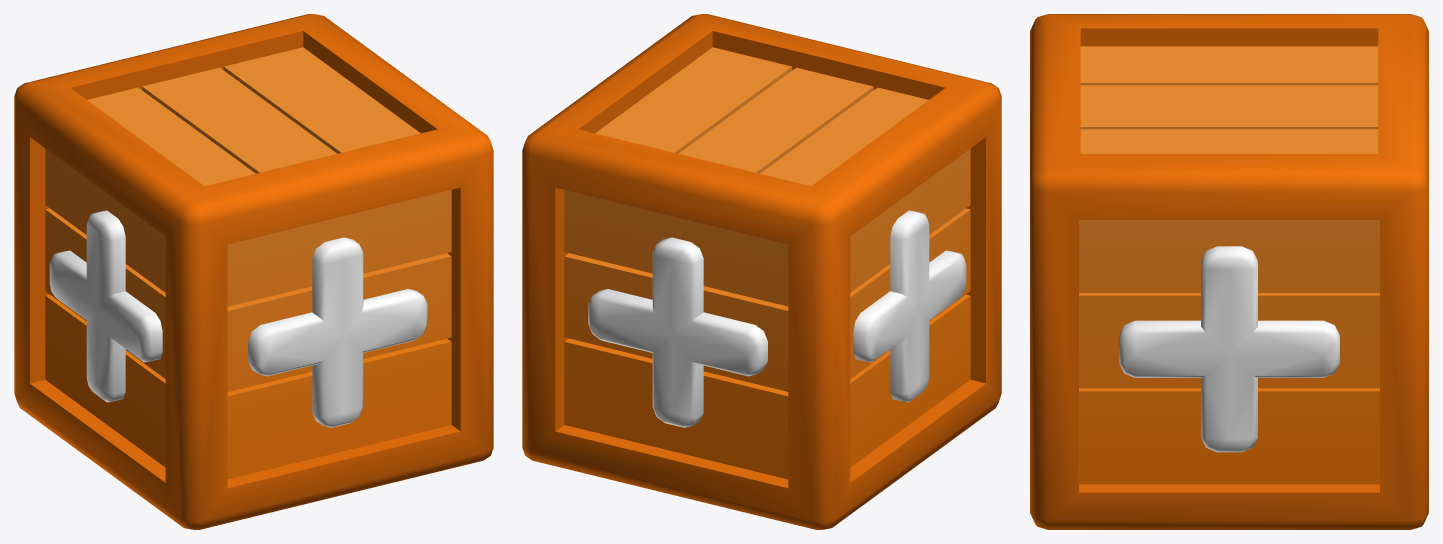
Rendered from Props_Crate_04.fbx.
3 views of the same model, side by side, from view 1: azimuth 30°, elevation 25°; view 2: azimuth 150°, elevation 25°; view 3: azimuth 270°, elevation 25° (orthographic). The views are drawn at different scales.
Parts seen in each view (by area): view 1: Props_Crate_04; view 2: Props_Crate_04; view 3: Props_Crate_04.
Boxes of the visible parts, x1,y1,x2,y2 form: Props_Crate_04: (14,14,493,529); Props_Crate_04: (522,14,1001,529); Props_Crate_04: (1030,14,1428,529).
Size of the model in its own units: 120 by 119 by 119.
